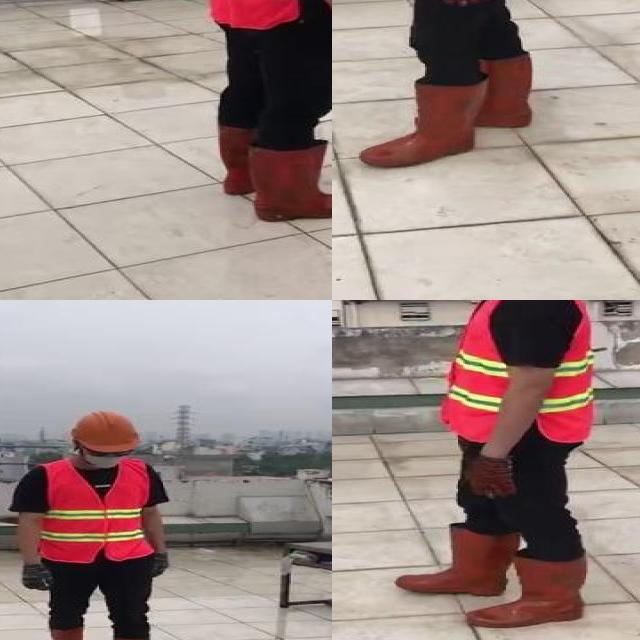boots: (358, 81, 477, 168), (463, 558, 588, 630), (396, 530, 520, 595), (250, 138, 332, 222), (218, 121, 304, 199), (473, 56, 530, 129), (45, 623, 90, 640)
face_mask: (76, 444, 134, 469)
glasses: (83, 446, 135, 461)
hand_glove: (464, 454, 518, 499), (19, 563, 53, 590), (151, 554, 170, 581)
head_helmet: (67, 408, 145, 454)
person: (385, 300, 600, 634), (6, 406, 195, 640), (347, 0, 548, 175), (179, 0, 332, 226)
vest: (442, 300, 596, 443), (35, 460, 154, 560)
